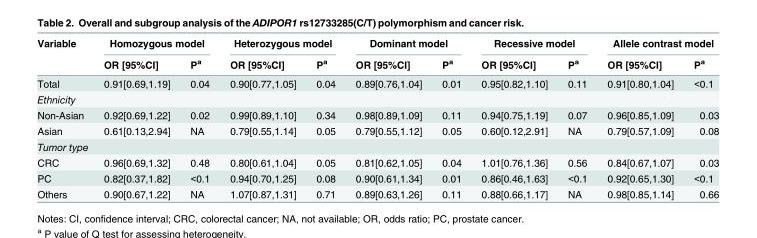table: (36, 36, 718, 199)
table column: (344, 36, 431, 199), (596, 36, 683, 199), (93, 36, 179, 199), (219, 36, 305, 199), (470, 36, 556, 199), (36, 36, 93, 199), (179, 36, 219, 199), (556, 36, 596, 199), (305, 36, 344, 199), (431, 36, 470, 199), (683, 36, 718, 199)
table column header: (36, 36, 718, 73)
table projected row header: (36, 90, 718, 106), (36, 138, 718, 154)
table row: (36, 52, 718, 73), (36, 73, 718, 90), (36, 36, 718, 52), (36, 90, 718, 106), (36, 106, 718, 122), (36, 122, 718, 138), (36, 138, 718, 154), (36, 169, 718, 185), (36, 154, 718, 169), (36, 185, 718, 199)
table spanning cell: (36, 36, 93, 73), (93, 36, 219, 52), (344, 36, 470, 52), (470, 36, 596, 52), (219, 36, 344, 52), (596, 36, 718, 52)
